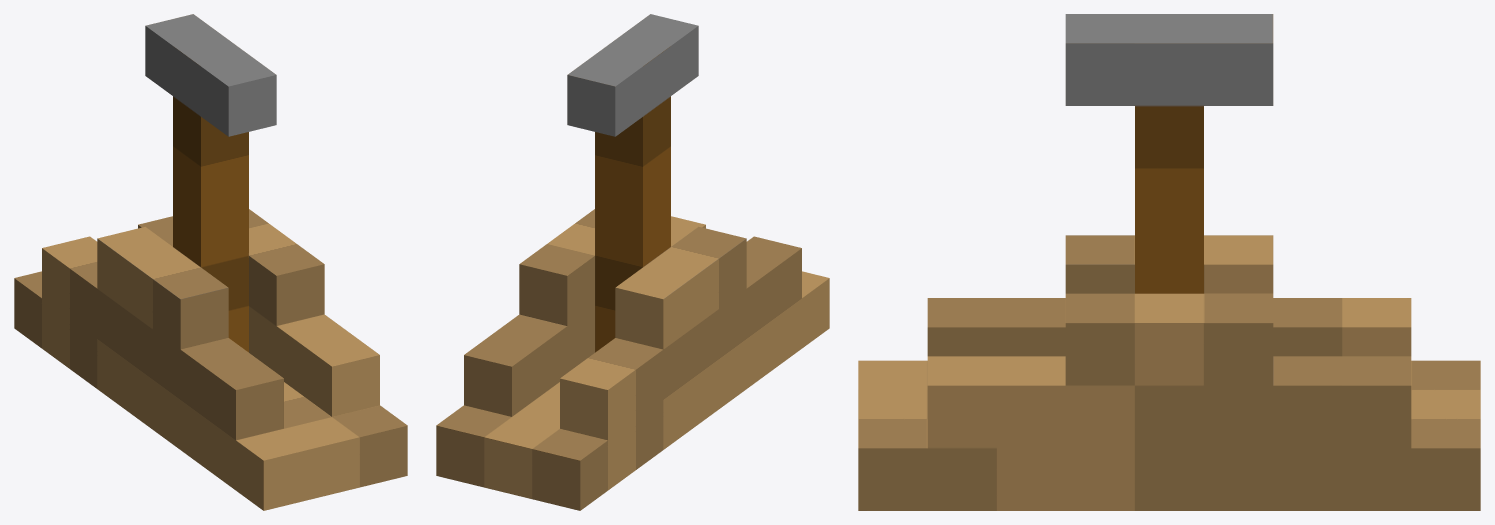
The model's file is Lever_Middle.glb.
3 renders of one model, left to right at view 1: azimuth 30°, elevation 25°; view 2: azimuth 150°, elevation 25°; view 3: azimuth 270°, elevation 25°, orthographic. The views are drawn at different scales.
Parts seen in each view (by area): view 1: Lever_Middle; view 2: Lever_Middle; view 3: Lever_Middle.
Boxes of the visible parts, x1,y1,x2,y2 form: Lever_Middle: (14,14,407,510); Lever_Middle: (436,14,829,510); Lever_Middle: (858,14,1480,510).
Size of the model in its own units: 0.3 by 0.7 by 0.9.
Materials: 1 (1 with a texture image).
